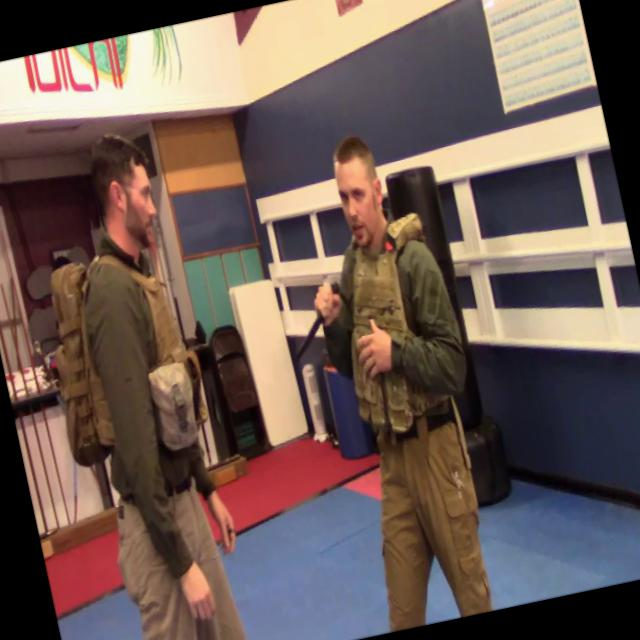knife: (276, 283, 356, 371)
